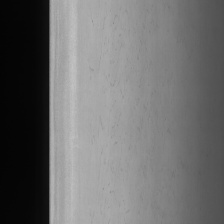silk_spot: (86, 11, 154, 181)
